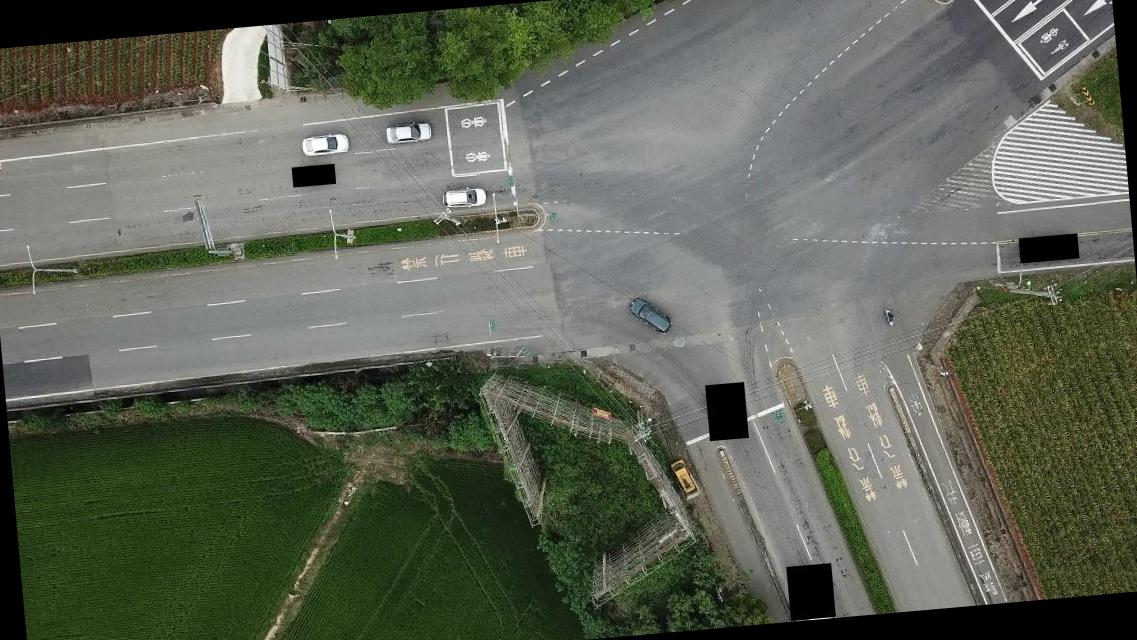vehicle: (626, 292, 673, 338), (298, 132, 350, 158), (383, 120, 433, 146), (439, 187, 487, 210), (670, 456, 696, 496)
